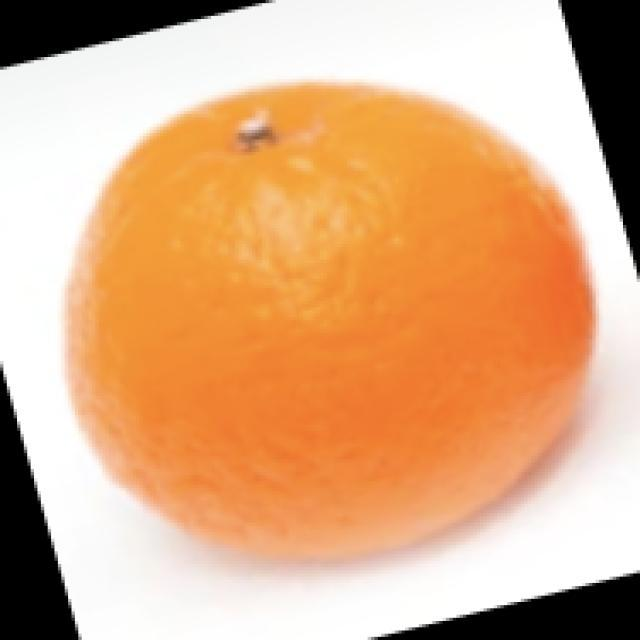matang: (69, 84, 594, 553)
